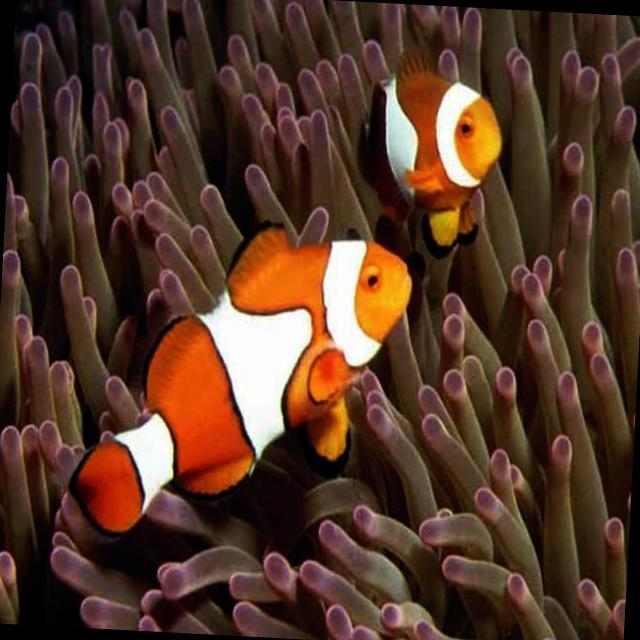ClownFish: (66, 210, 415, 548), (356, 52, 506, 255)
